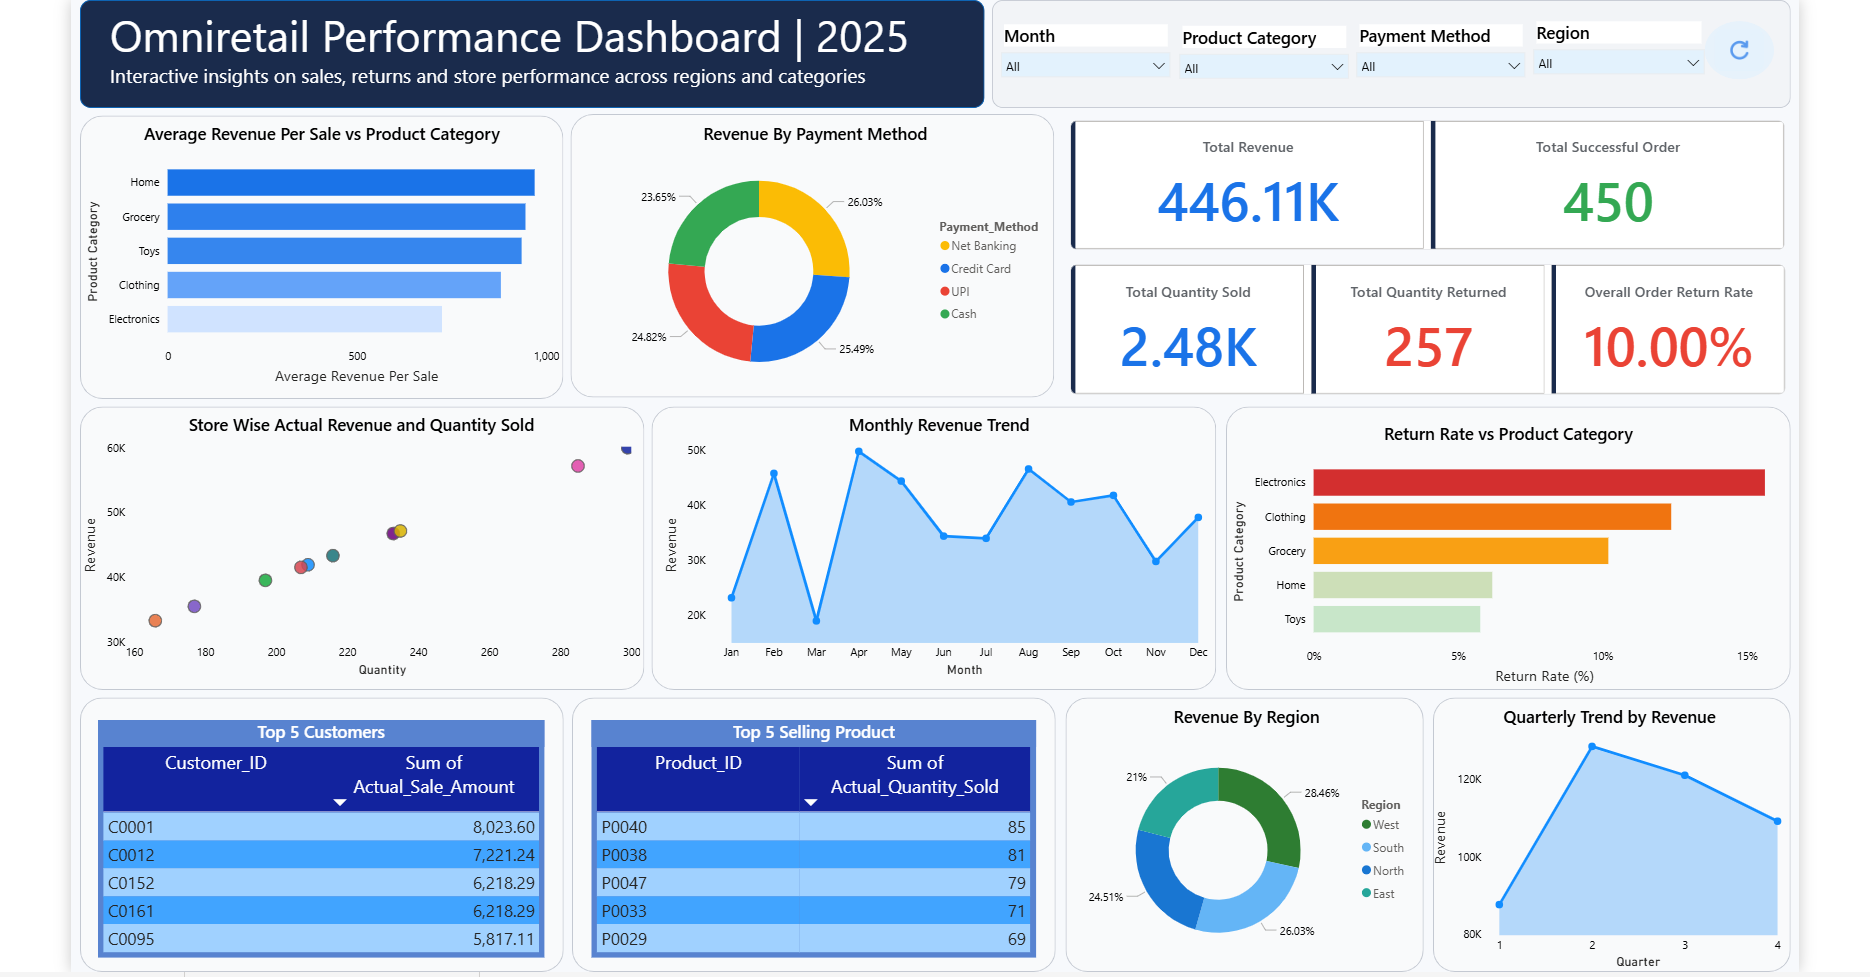

The dashboard page shown, as its layout file describes it:
{"tool":"powerbi","page":{"name":"Page 1","canvas":[1920,1080],"ordinal":0},"visuals":[{"type":"shape","box":[10,0,1005,120],"z":0},{"type":"shape","box":[10,127.5,537,315],"z":1000},{"type":"shape","box":[1022.5,0,887.5,120],"z":2000},{"type":"textbox","box":[37.5,0,950,120],"z":3000},{"type":"cardVisual","fields":{"Data":["Sum(new_schema sales_summary.Actual_Sale_Amount)","Sum(new_schema sales_summary.Successful_Order)"]},"box":[1105,128,805,154],"z":4000},{"type":"cardVisual","fields":{"Data":["Sum(new_schema sales_summary.Quantity_Sold)","Sum(new_schema sales_summary.Quantity_Returned)","Avg(new_schema sales_summary.Return_Rate)"]},"box":[1105,287.5,805,155],"z":5000},{"type":"shape","box":[555,127,537.5,315],"z":6000},{"type":"shape","box":[10,451,627,315],"z":7000},{"type":"shape","box":[645.8,451,627.5,315],"z":8000},{"type":"shape","box":[1282.5,451,627.5,315],"z":9000},{"type":"shape","box":[10,775,537.5,305],"z":10000},{"type":"shape","box":[557.3,775,537.5,305],"z":11000},{"type":"shape","box":[1104.7,775,398,305],"z":12000},{"type":"shape","box":[1512.5,775,397.5,305],"z":13000},{"type":"barChart","title":"Average Revenue Per Sale vs Product Category","fields":{"Category":["new_schema sales_summary.Product_Category"],"Y":["Avg(new_schema sales_summary.Actual_Sale_Amount)"]},"box":[10,135,537.5,297.5],"z":14000},{"type":"donutChart","title":"Revenue By Payment Method","fields":{"Category":["new_schema sales_summary.Payment_Method"],"Y":["Sum(new_schema sales_summary.Actual_Sale_Amount)"]},"box":[557.5,135,537.5,307.5],"z":15000},{"type":"lineChart","title":"Monthly Revenue Trend","fields":{"Category":["new_schema sales_summary.Month_Name"],"Y":["Sum(new_schema sales_summary.Actual_Sale_Amount)"]},"box":[653.2,458.7,622.8,297.7],"z":16000},{"type":"scatterChart","title":"Store Wise Actual Revenue and Quantity Sold","fields":{"Series":["new_schema sales_summary.Store_ID"],"X":["Sum(new_schema sales_summary.Actual_Quantity_Sold)"],"Y":["Sum(new_schema sales_summary.Actual_Sale_Amount)"]},"box":[9.1,458.7,628.9,297.7],"z":17000},{"type":"barChart","title":"Return Rate vs Product Category","fields":{"Category":["new_schema sales_summary.Product_Category"],"Y":["Avg(new_schema sales_summary.Return_Rate)"]},"box":[1282.5,467.5,627.5,297.5],"z":18000},{"type":"donutChart","title":"Revenue By Region","fields":{"Category":["new_schema sales_summary.Region"],"Y":["Sum(new_schema sales_summary.Actual_Sale_Amount)"]},"box":[1110,782.5,392.5,297.5],"z":19000},{"type":"lineChart","title":"Quarterly Trend by Revenue","fields":{"Category":["new_schema sales_summary.Quarter"],"Y":["Sum(new_schema sales_summary.Actual_Sale_Amount)"]},"box":[1507.5,782.5,402.5,297.5],"z":20000},{"type":"tableEx","title":"Top 5 Customers","fields":{"Values":["new_schema sales_summary.Customer_ID","new_schema sales_summary.Actual_Sale_Amount"]},"box":[29.6,800,495.9,264.3],"z":21000},{"type":"tableEx","title":"Top 5 Selling Product","fields":{"Values":["new_schema sales_summary.Product_ID","new_schema sales_summary.Actual_Quantity_Sold"]},"box":[577.9,800,494.2,264],"z":22000},{"type":"slicer","fields":{"Values":["new_schema sales_summary.Month_Name"]},"box":[1023.6,21.5,208,76.3],"z":23000},{"type":"slicer","fields":{"Values":["new_schema sales_summary.Product_Category"]},"box":[1221,22.5,208,75],"z":24000},{"type":"slicer","fields":{"Values":["new_schema sales_summary.Payment_Method"]},"box":[1418.5,21.5,207.6,76.3],"z":25000},{"type":"slicer","fields":{"Values":["new_schema sales_summary.Region"]},"box":[1615.6,19.1,210,76.3],"z":26000},{"type":"actionButton","box":[1815,22.5,77.5,65],"z":26001}]}

Visuals, with their boxes on the page's 1920x1080 design canvas (x1, y1, x2, y2). These are canvas units, not pixel positions in the 1870x977 screenshot, which may show the page scaled, cropped or inside an application window:
shape: bbox=(10, 0, 1015, 120)
shape: bbox=(10, 128, 547, 442)
shape: bbox=(1022, 0, 1910, 120)
textbox: bbox=(38, 0, 988, 120)
cardVisual - Sum(new_schema sales_summary.Actual_Sale_Amount) x Sum(new_schema sales_summary.Successful_Order): bbox=(1105, 128, 1910, 282)
cardVisual - Sum(new_schema sales_summary.Quantity_Sold) x Sum(new_schema sales_summary.Quantity_Returned): bbox=(1105, 288, 1910, 442)
shape: bbox=(555, 127, 1092, 442)
shape: bbox=(10, 451, 637, 766)
shape: bbox=(646, 451, 1273, 766)
shape: bbox=(1282, 451, 1910, 766)
shape: bbox=(10, 775, 548, 1080)
shape: bbox=(557, 775, 1095, 1080)
shape: bbox=(1105, 775, 1503, 1080)
shape: bbox=(1512, 775, 1910, 1080)
"Average Revenue Per Sale vs Product Category" barChart: bbox=(10, 135, 548, 432)
"Revenue By Payment Method" donutChart: bbox=(558, 135, 1095, 442)
"Monthly Revenue Trend" lineChart: bbox=(653, 459, 1276, 756)
"Store Wise Actual Revenue and Quantity Sold" scatterChart: bbox=(9, 459, 638, 756)
"Return Rate vs Product Category" barChart: bbox=(1282, 468, 1910, 765)
"Revenue By Region" donutChart: bbox=(1110, 782, 1502, 1080)
"Quarterly Trend by Revenue" lineChart: bbox=(1508, 782, 1910, 1080)
"Top 5 Customers" tableEx: bbox=(30, 800, 526, 1064)
"Top 5 Selling Product" tableEx: bbox=(578, 800, 1072, 1064)
slicer - new_schema sales_summary.Month_Name: bbox=(1024, 22, 1232, 98)
slicer - new_schema sales_summary.Product_Category: bbox=(1221, 22, 1429, 98)
slicer - new_schema sales_summary.Payment_Method: bbox=(1418, 22, 1626, 98)
slicer - new_schema sales_summary.Region: bbox=(1616, 19, 1826, 95)
actionButton: bbox=(1815, 22, 1892, 88)
